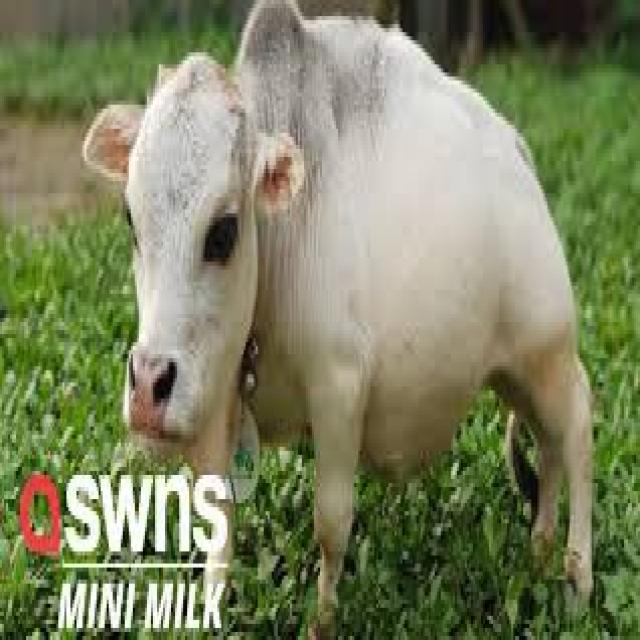cow: (137, 108, 256, 413)
